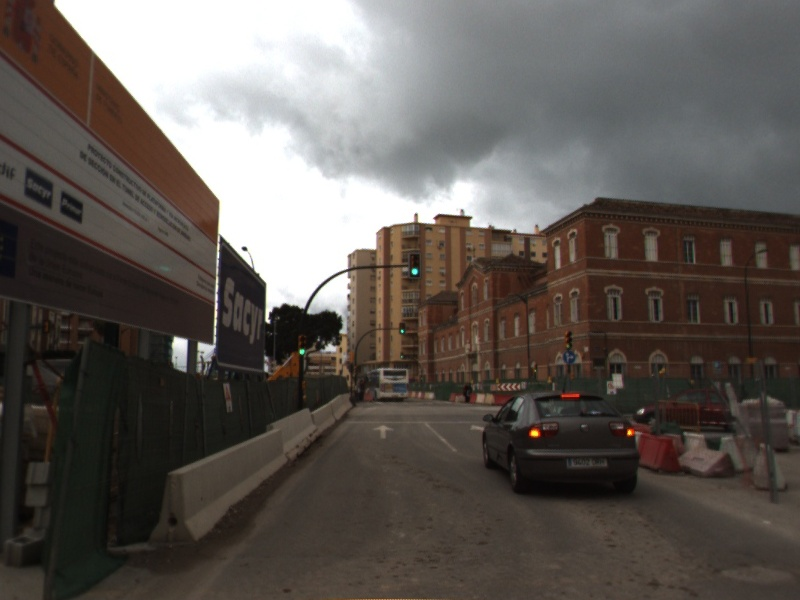STRAIGHT: (370, 423, 397, 440)
